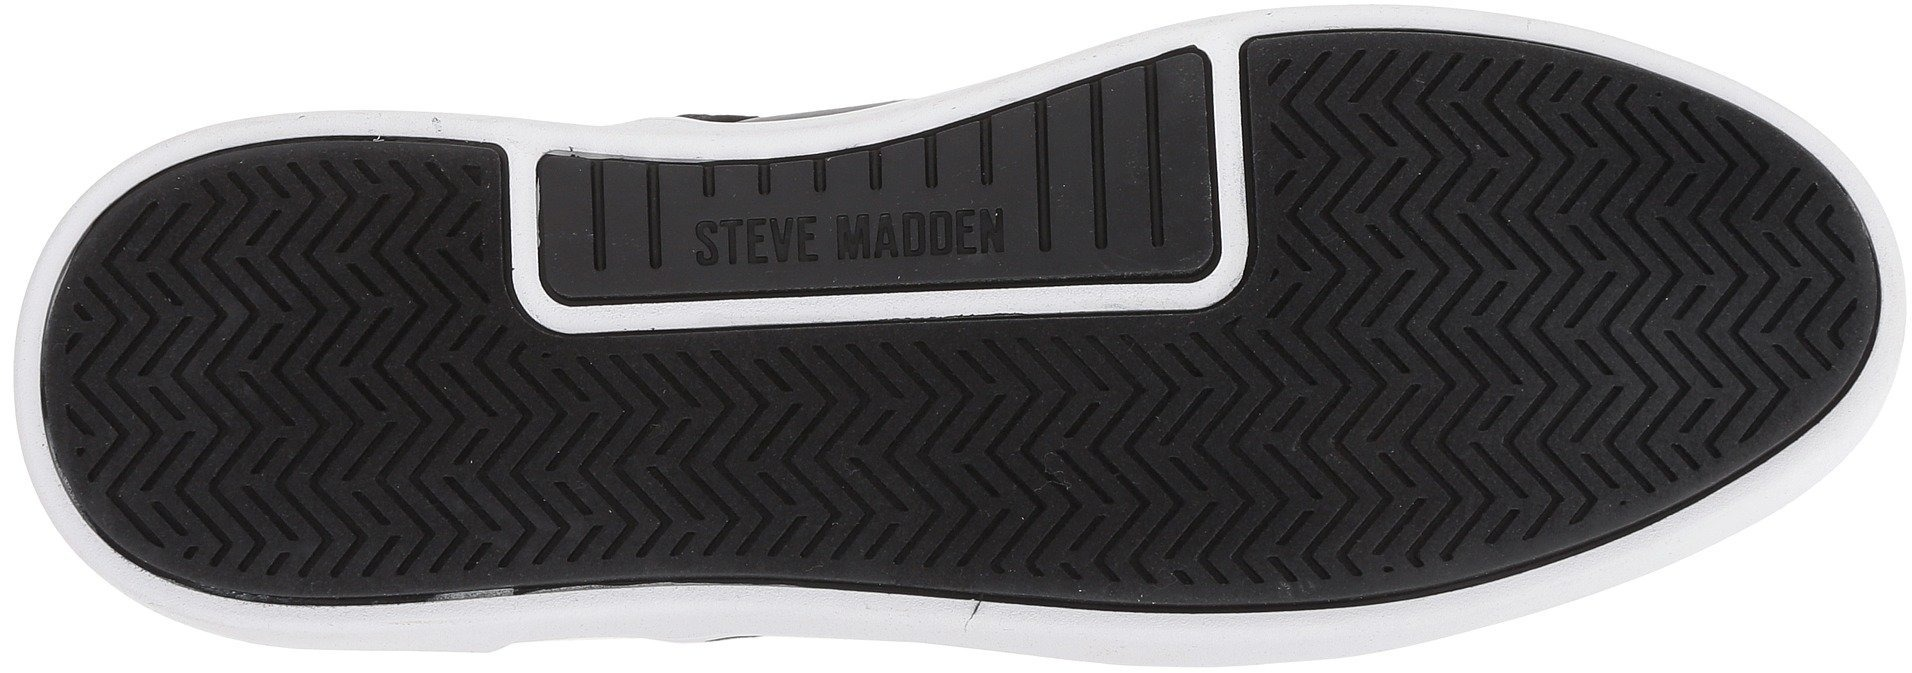chevron: (1278, 69, 1588, 329), (126, 215, 423, 454), (928, 326, 1217, 551), (1243, 345, 1486, 571), (699, 335, 922, 567), (443, 341, 679, 544), (1603, 206, 1825, 415), (249, 457, 378, 580)
text: (696, 201, 801, 293), (878, 199, 978, 280)
